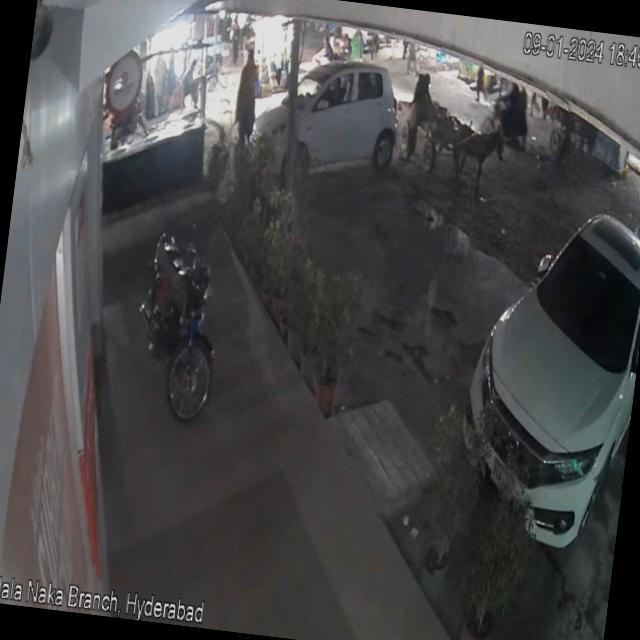Car: (446, 180, 640, 573), (244, 51, 423, 200)
